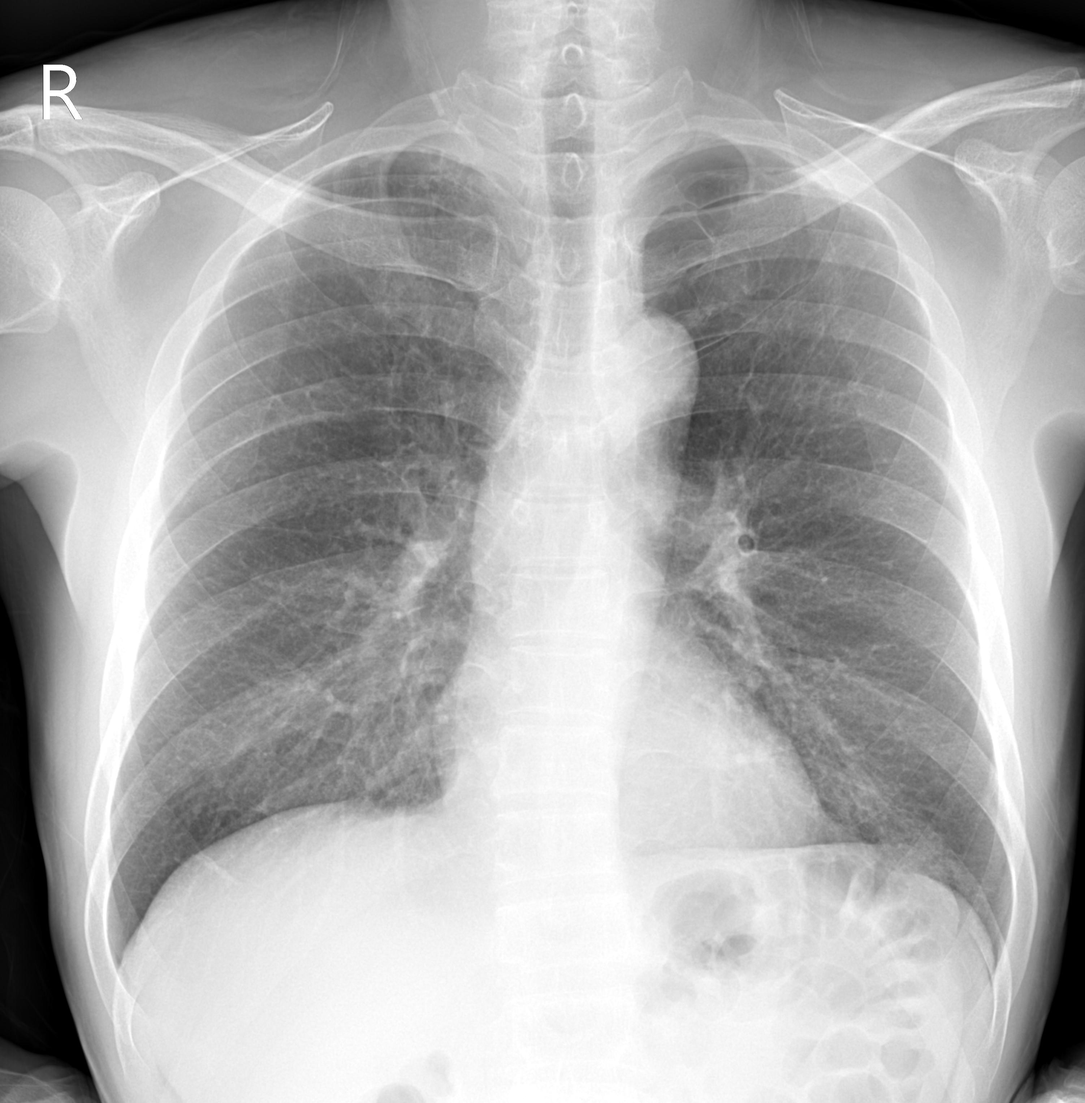Pleural thickening: (299, 148, 400, 186)
Pulmonary fibrosis: (647, 163, 807, 374), (412, 150, 528, 314)
